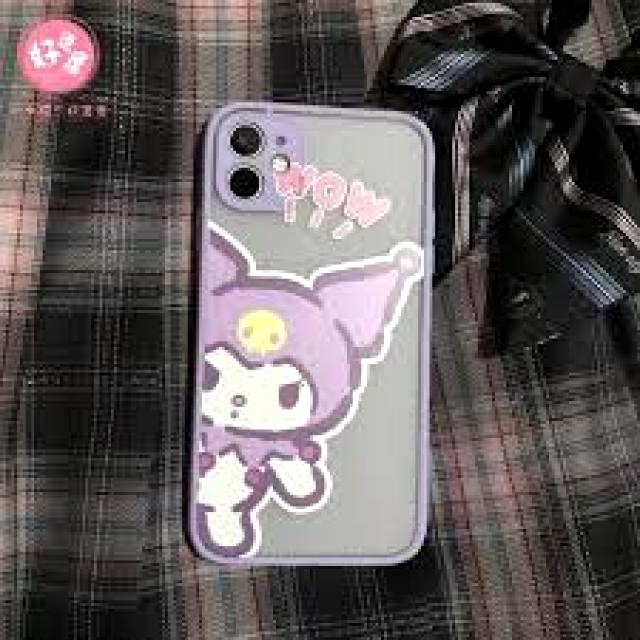lens_back: (224, 163, 265, 203), (227, 121, 266, 159)
phone: (187, 99, 436, 570)
